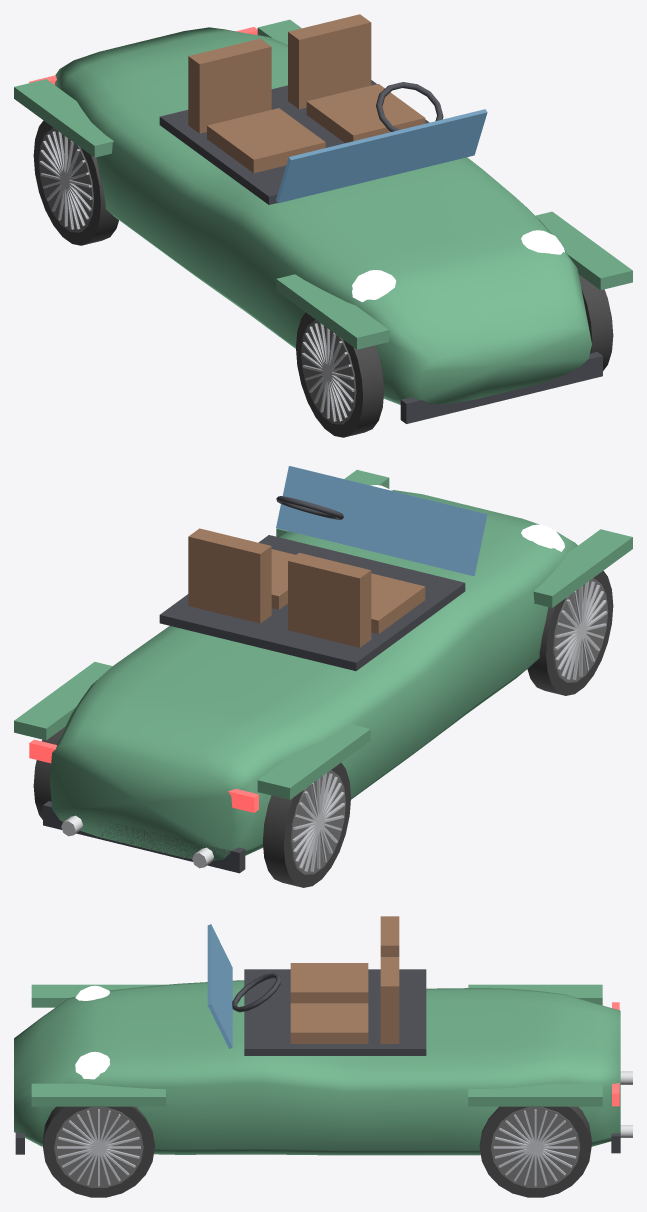
File: heritage.glb
The picture shows the model from 3 angles, top to bottom: view 1: azimuth 30°, elevation 25°; view 2: azimuth 150°, elevation 25°; view 3: azimuth 270°, elevation 25°; orthographic projection. The views are drawn at different scales.
Visible parts, largest first — view 1: Body, Car_heritage, Glass, Wheel_FR, Wheel_RR, Wheel_FL, SteeringWheel; view 2: Body, Car_heritage, Glass, Wheel_RR, Wheel_FR, Wheel_RL, SteeringWheel; view 3: Body, Car_heritage, Wheel_FL, Wheel_RL, Glass, SteeringWheel.
Part boxes in pixels (<box>): Body: <box>55,27,591,404</box>; Car_heritage: <box>14,14,632,423</box>; Glass: <box>276,109,487,203</box>; Wheel_FR: <box>296,312,383,437</box>; Wheel_RR: <box>33,120,118,245</box>; Wheel_FL: <box>578,274,613,370</box>; SteeringWheel: <box>376,82,443,131</box>; Body: <box>49,490,577,860</box>; Car_heritage: <box>14,470,632,873</box>; Glass: <box>276,466,487,575</box>; Wheel_RR: <box>263,763,350,887</box>; Wheel_FR: <box>527,570,613,695</box>; Wheel_RL: <box>33,727,64,819</box>; SteeringWheel: <box>276,496,343,519</box>; Body: <box>14,980,620,1155</box>; Car_heritage: <box>15,916,632,1154</box>; Wheel_FL: <box>43,1106,154,1197</box>; Wheel_RL: <box>479,1106,591,1197</box>; Glass: <box>207,924,232,1048</box>; SteeringWheel: <box>232,973,280,1012</box>.
Bounding box in the file's own units: 1.71 × 1.39 × 3.98.
